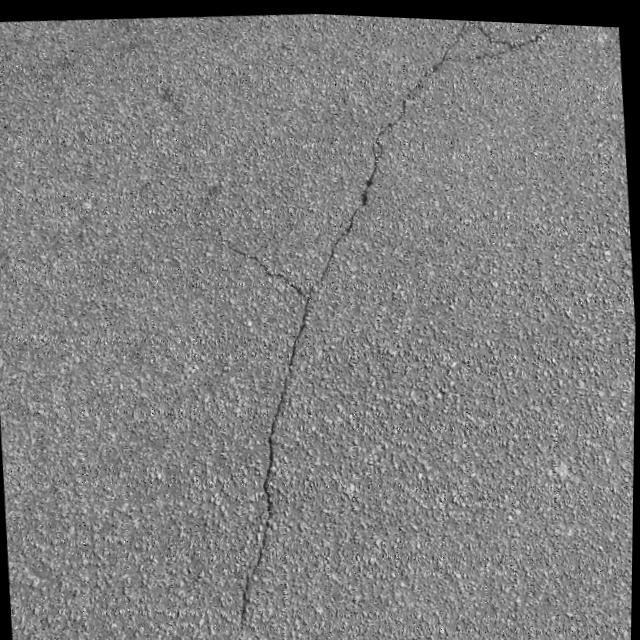Crack: (184, 7, 611, 640)
